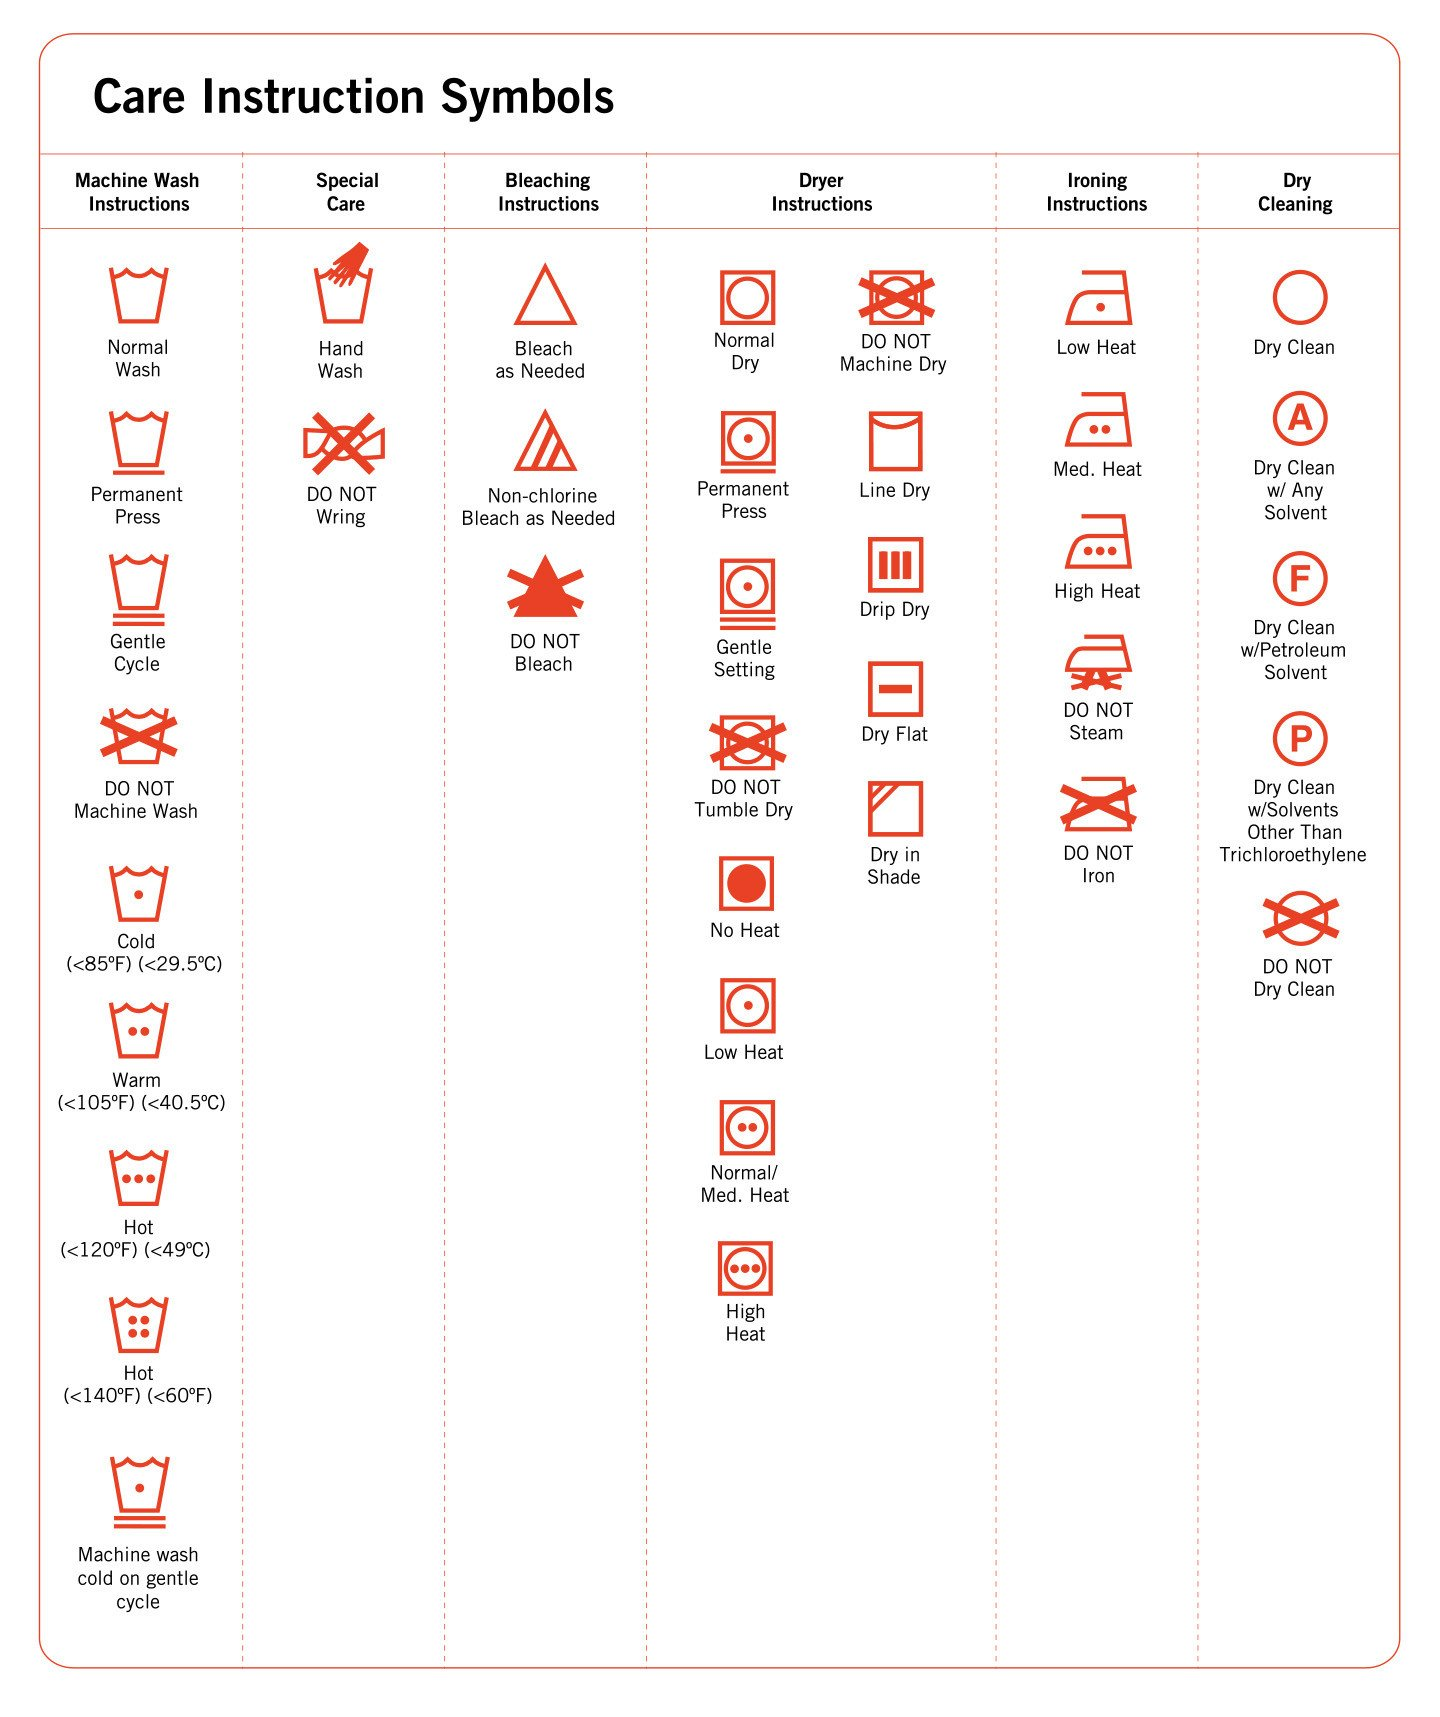do_not_bleach: (494, 554, 606, 624)
do_not_dry_clean: (1251, 888, 1353, 954)
do_not_iron: (1051, 770, 1151, 840)
do_not_wash: (81, 704, 194, 774)
